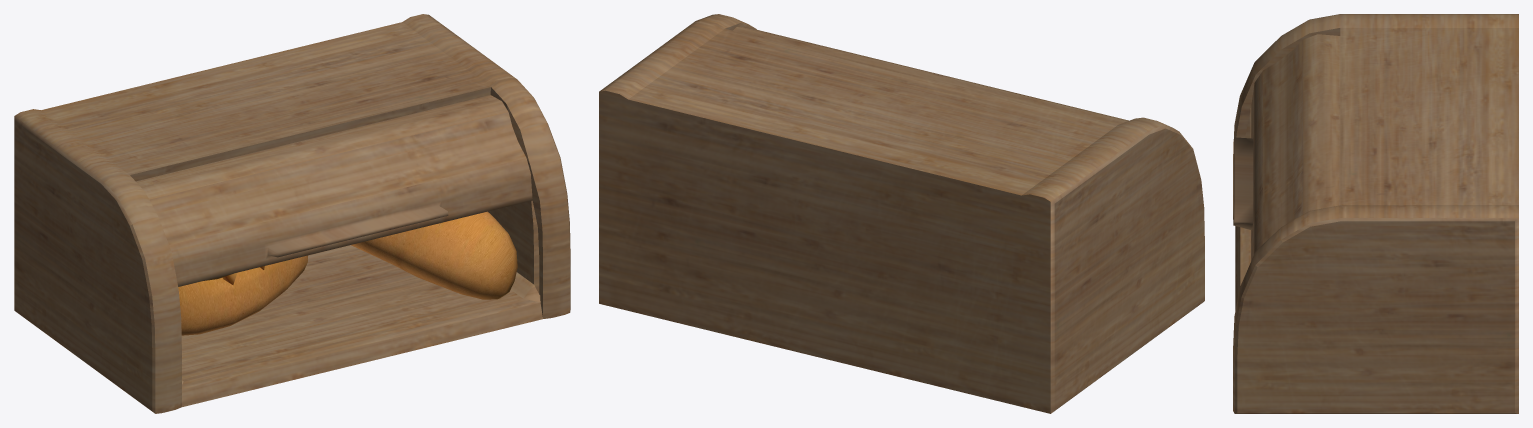
Rendered from bread_box.glb.
The picture shows the model from 3 angles, left to right: view 1: azimuth 30°, elevation 25°; view 2: azimuth 150°, elevation 25°; view 3: azimuth 270°, elevation 25°; orthographic projection. The views are drawn at different scales.
Visible parts, largest first — view 1: BreadBox; view 2: BreadBox; view 3: BreadBox.
Part boxes in pixels (x1,y1,x2,y2): BreadBox: (14,14,570,413); BreadBox: (599,14,1204,413); BreadBox: (1233,14,1518,413).
Bounding box in the file's own units: 0.4699 × 0.2115 × 0.2761.
2 materials, 2 textured.
